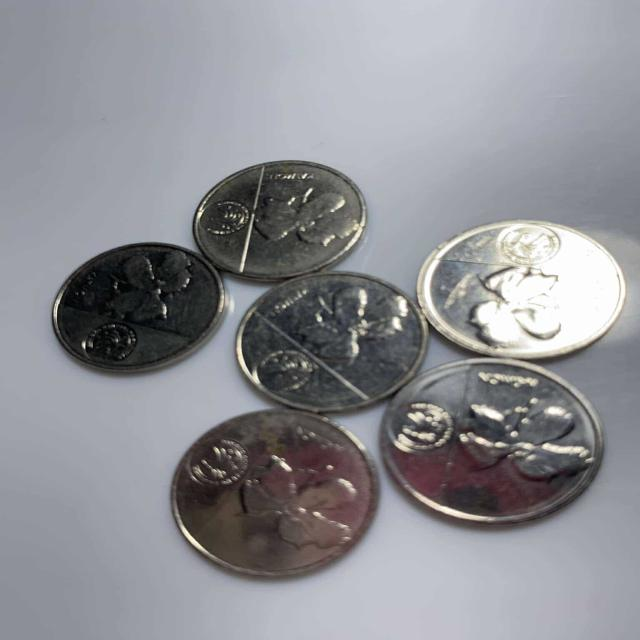25Cent_New_Back: (389, 362, 603, 522), (172, 411, 372, 572), (424, 220, 625, 356), (234, 274, 416, 406), (52, 245, 226, 375), (198, 161, 362, 277)
